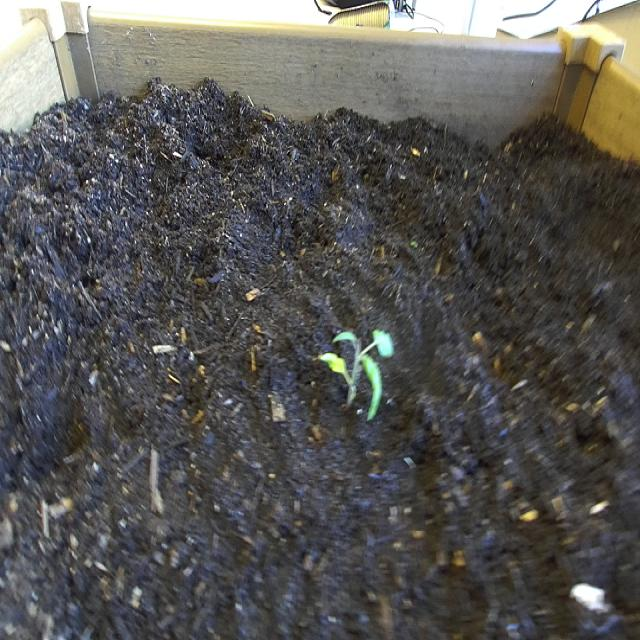Healthy: (314, 317, 401, 426)
